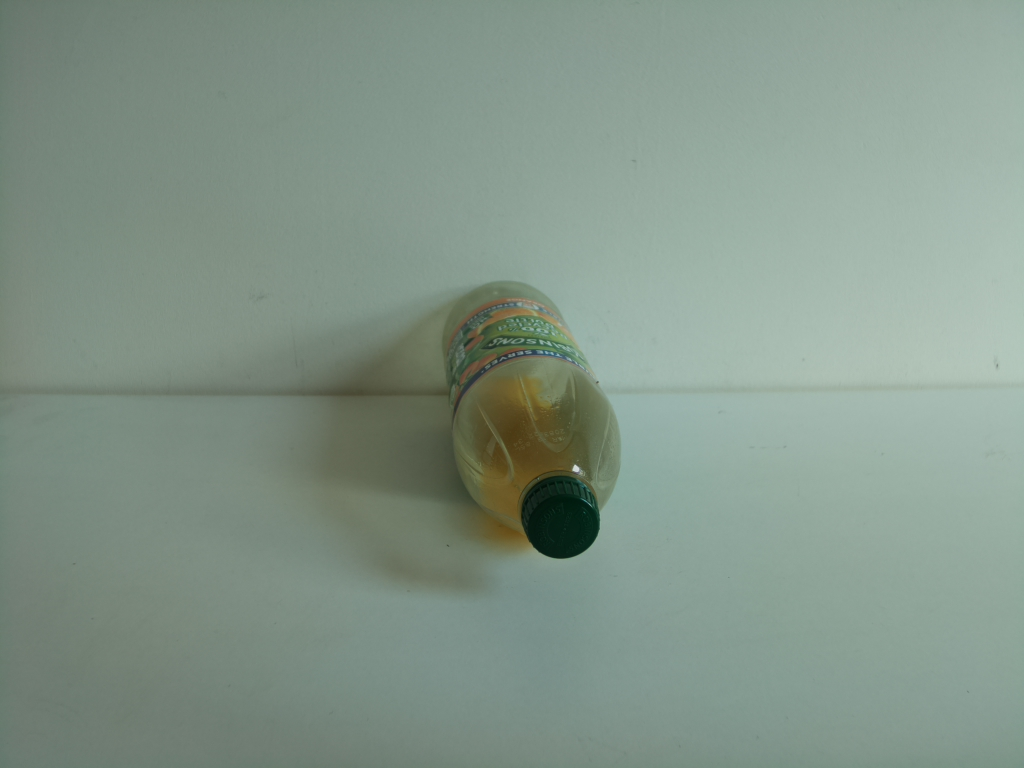juice: (442, 275, 631, 559)
